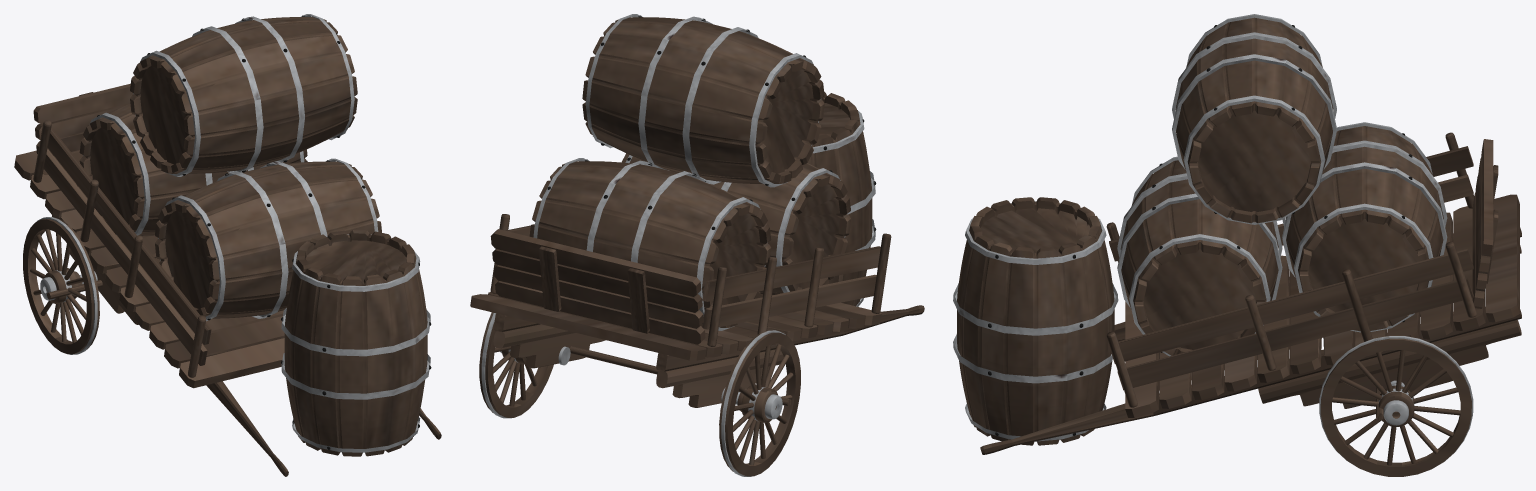
File: surae & OakBox.fbx
The picture shows the model from 3 angles, left to right: view 1: azimuth 30°, elevation 25°; view 2: azimuth 150°, elevation 25°; view 3: azimuth 270°, elevation 25°; orthographic projection. The views are drawn at different scales.
Parts seen in each view (by area): view 1: SangPan Wood 2; view 2: SangPan Wood 2; view 3: SangPan Wood 2.
Part boxes in pixels (x1=…): SangPan Wood 2: x1=14, y1=14, x2=441, y2=476; SangPan Wood 2: x1=470, y1=14, x2=924, y2=476; SangPan Wood 2: x1=953, y1=14, x2=1521, y2=476.
Size of the model in its own units: 250 by 306 by 422.
2 materials, 2 textured.
